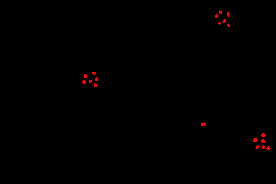Target: (261, 133, 266, 137), (253, 138, 258, 142), (261, 139, 266, 143), (266, 146, 271, 150), (82, 80, 86, 84), (227, 12, 230, 17), (201, 123, 206, 126), (219, 10, 222, 14), (215, 14, 218, 18), (223, 19, 226, 23), (92, 72, 96, 75), (84, 74, 87, 78), (95, 77, 98, 81), (94, 83, 97, 87), (256, 145, 259, 149), (262, 145, 265, 149), (218, 22, 221, 25), (227, 24, 230, 27), (89, 80, 92, 83)
